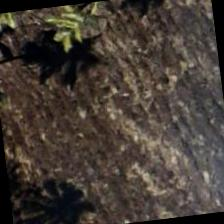Kelapa_Sawit: (44, 0, 142, 73)
